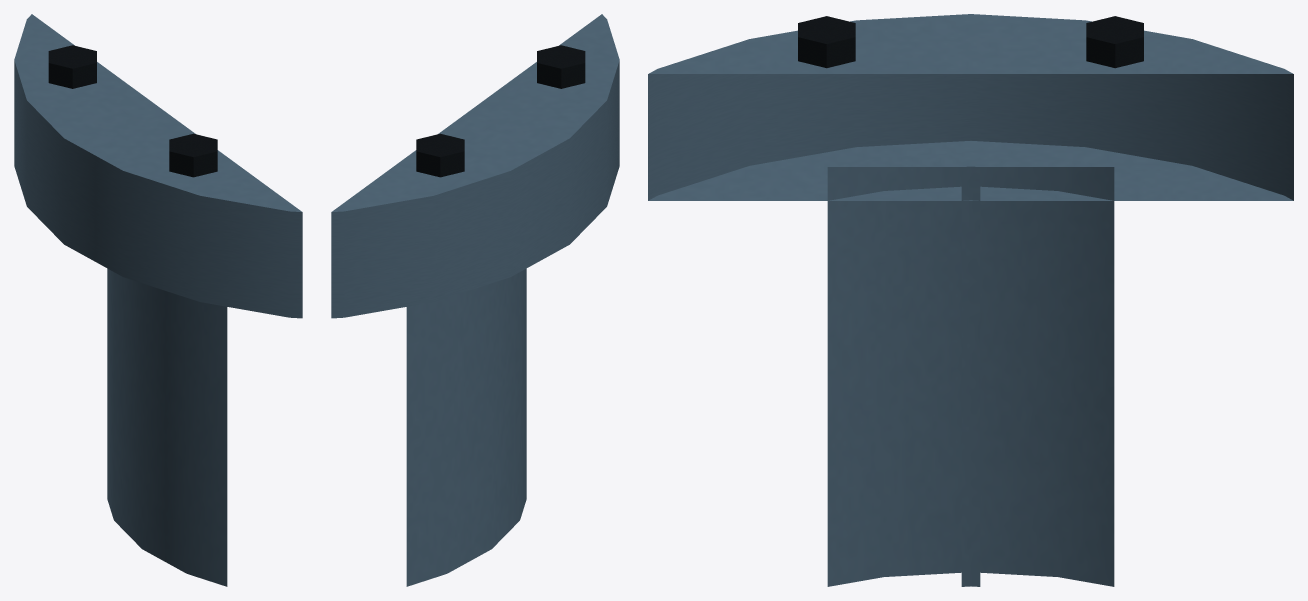
File: cell_49.obj
3 renders of one model, left to right at view 1: azimuth 30°, elevation 25°; view 2: azimuth 150°, elevation 25°; view 3: azimuth 270°, elevation 25°, orthographic. The views are drawn at different scales.
Visible parts, largest first — view 1: cell_49; view 2: cell_49; view 3: cell_49.
Boxes of the visible parts, x1,y1,x2,y2 form: cell_49: [14, 14, 302, 586]; cell_49: [331, 14, 619, 586]; cell_49: [648, 14, 1293, 586].
Bounding box in the file's own units: 0.0915 × 0.3811 × 0.4155.
